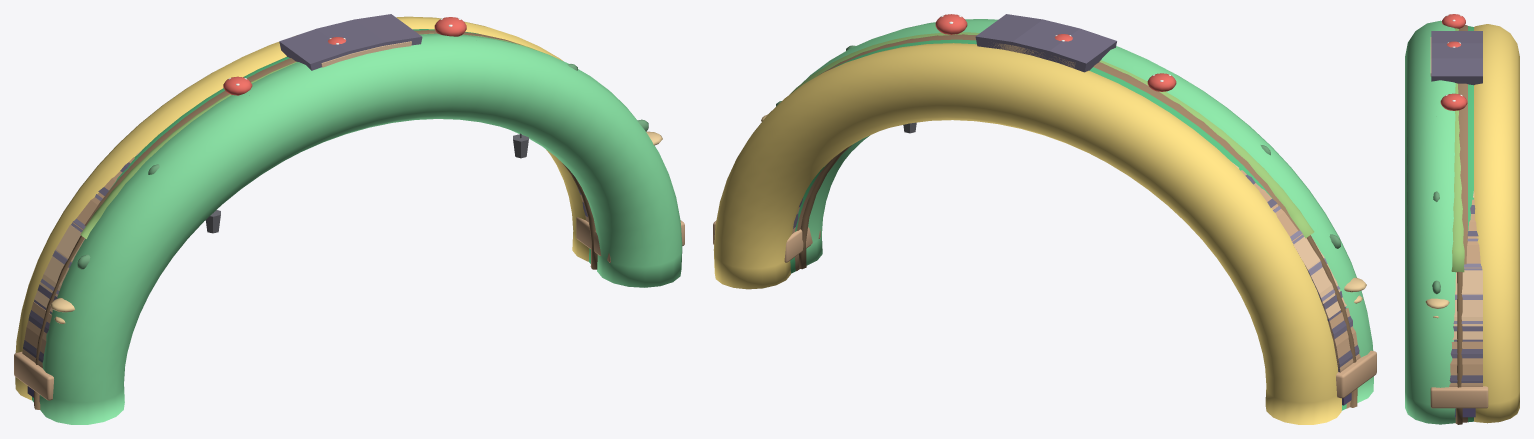
The model's file is tunnelkit.glb.
3 renders of one model, left to right at view 1: azimuth 30°, elevation 25°; view 2: azimuth 150°, elevation 25°; view 3: azimuth 270°, elevation 25°, orthographic. The views are drawn at different scales.
Parts seen in each view (by area): view 1: TK_pipe, TK_crypt, TK_wood, TK_rock; view 2: TK_pipe, TK_wood, TK_crypt, TK_rock; view 3: TK_pipe, TK_wood, TK_rock, TK_crypt, TK_neon.
Boxes of the visible parts, x1,y1,x2,y2 form: TK_pipe: (15, 16, 682, 424); TK_crypt: (23, 14, 648, 362); TK_wood: (34, 17, 662, 409); TK_rock: (14, 41, 684, 400); TK_pipe: (713, 19, 1373, 424); TK_wood: (761, 14, 1366, 408); TK_crypt: (776, 14, 1359, 372); TK_rock: (713, 43, 1376, 398); TK_pipe: (1405, 20, 1519, 424); TK_wood: (1425, 14, 1467, 424); TK_rock: (1430, 37, 1488, 408); TK_crypt: (1431, 31, 1482, 382); TK_neon: (1455, 408, 1475, 417).
Size of the model in its own units: 33.7 by 15.13 by 6.33.
